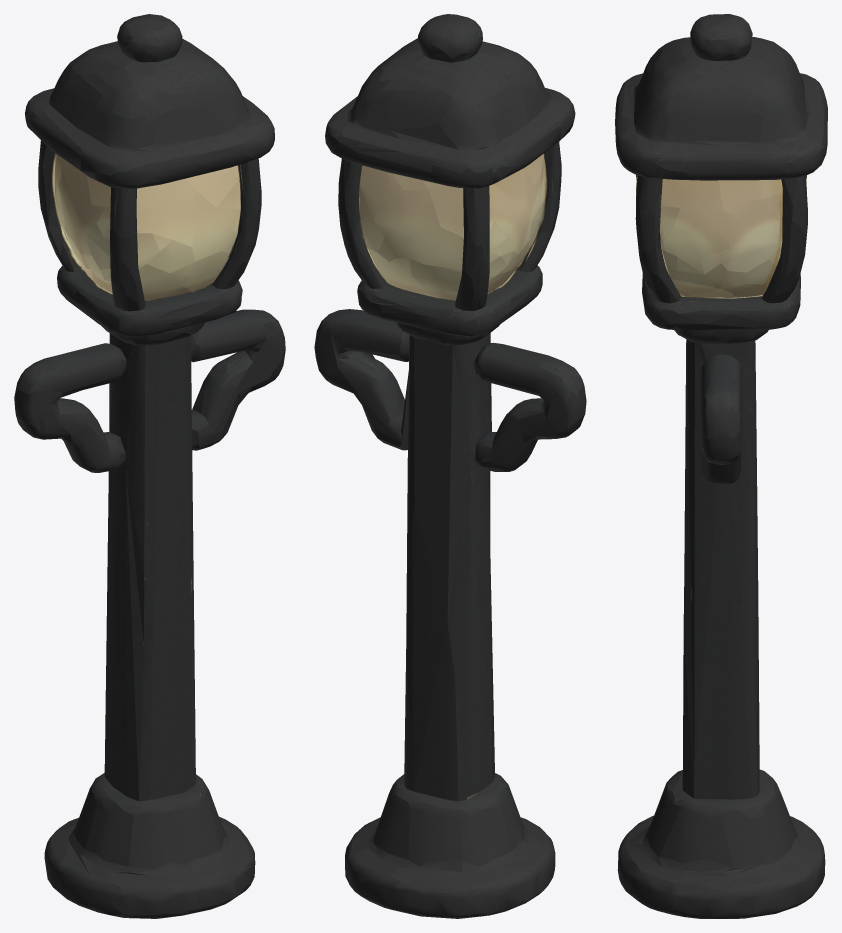
3 views of the same model, side by side, from view 1: azimuth 30°, elevation 25°; view 2: azimuth 150°, elevation 25°; view 3: azimuth 270°, elevation 25° (orthographic).
Bounding box in the file's own units: 0.6105 × 1.9 × 0.4265.
Materials: 1 (1 with a texture image).
